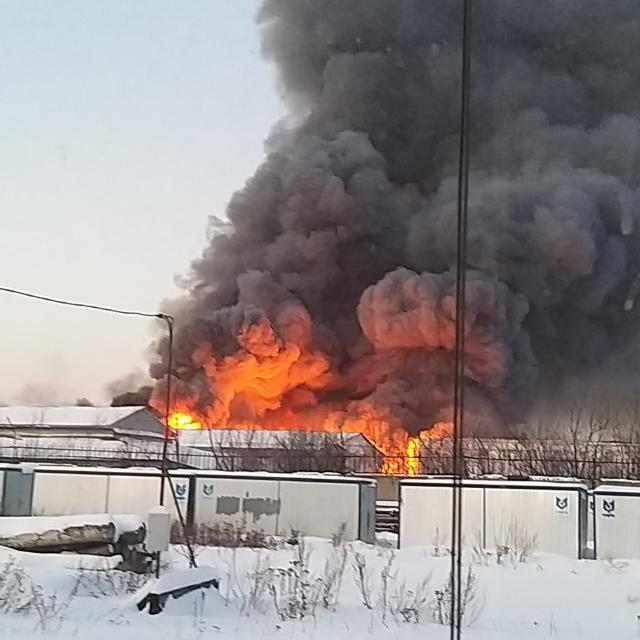Fire: (368, 418, 429, 474), (156, 402, 202, 428)
Smoke: (148, 0, 640, 397), (441, 406, 639, 464)
